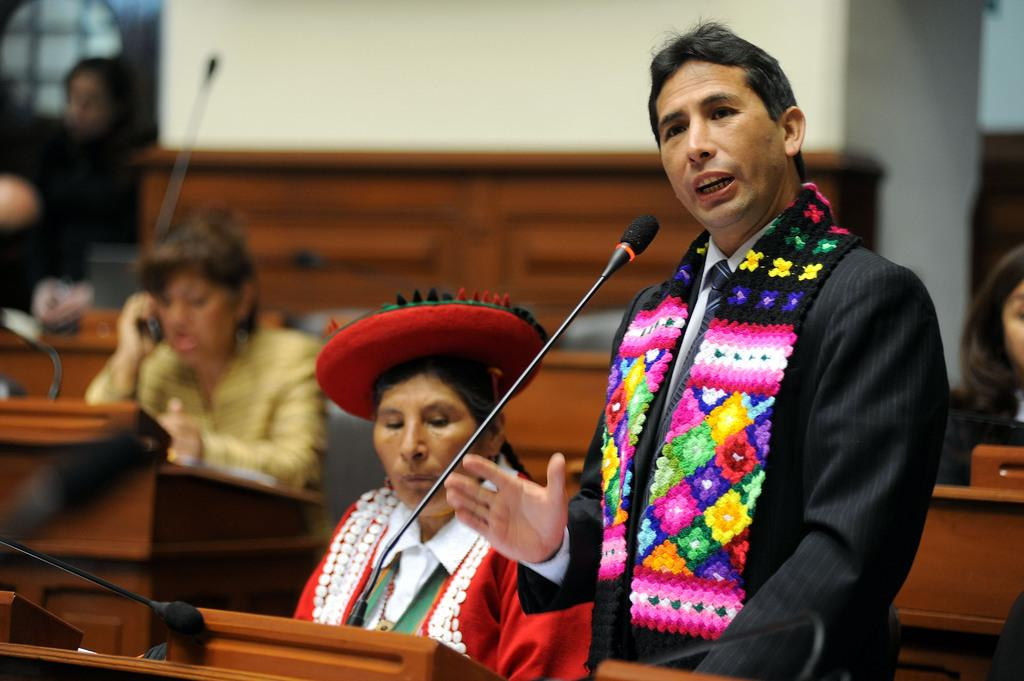Hat: (318, 281, 546, 422)
